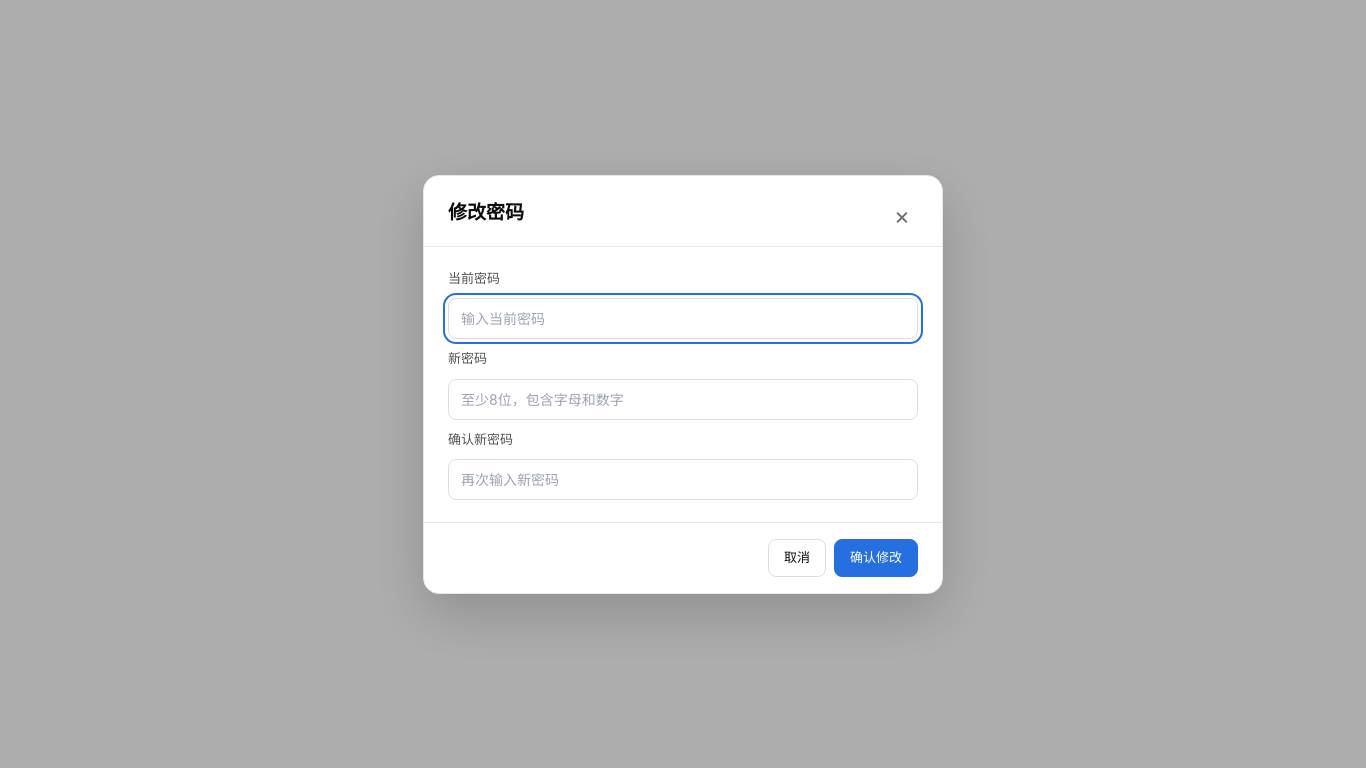
Test: 共享账户表单 › 保留原密码校验：/valid123/valid123
This screenshot has width=1366, height=768.
Type "valid123" into the password field labelled "新密码" at x=683, y=399, box [448, 378, 918, 420]
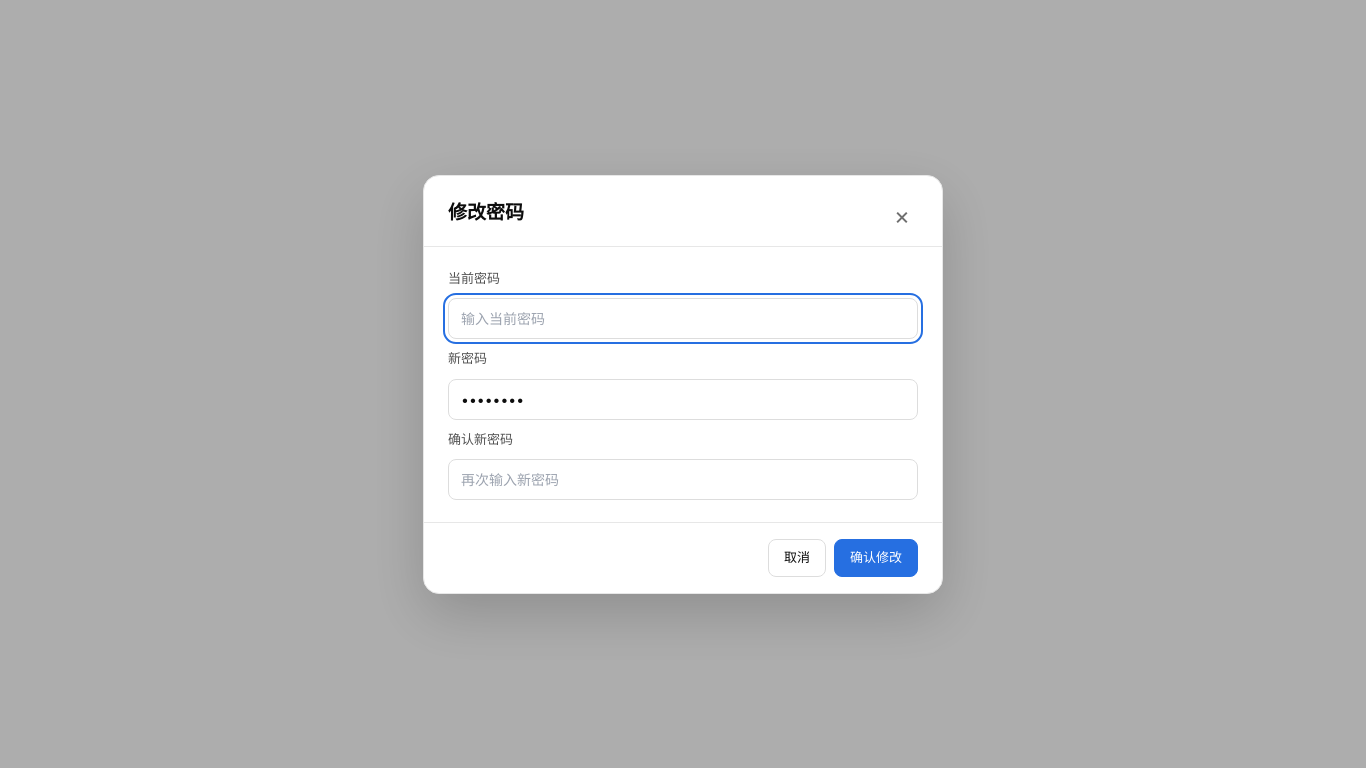
Type "valid123" into the password field labelled "确认新密码" at x=683, y=480, box [448, 459, 918, 500]
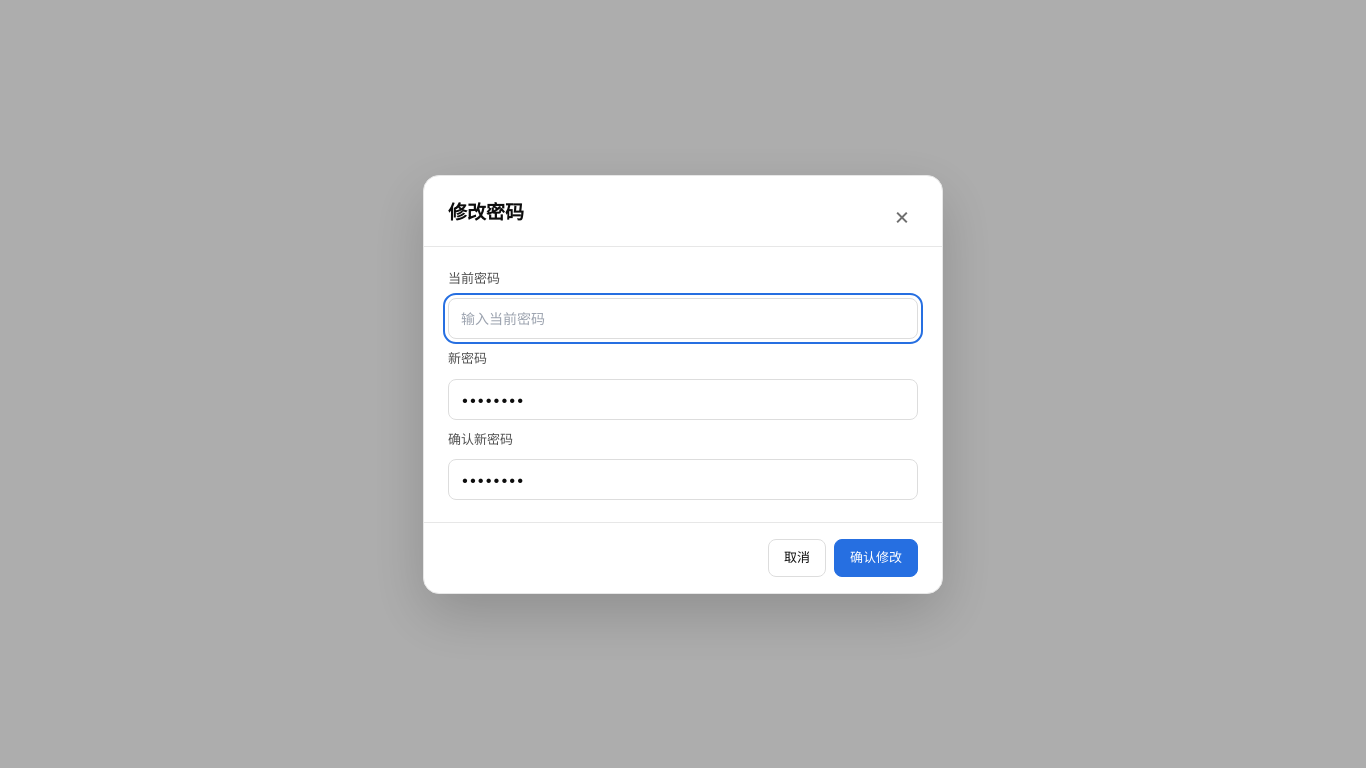
Submit the form, box [424, 246, 942, 592]
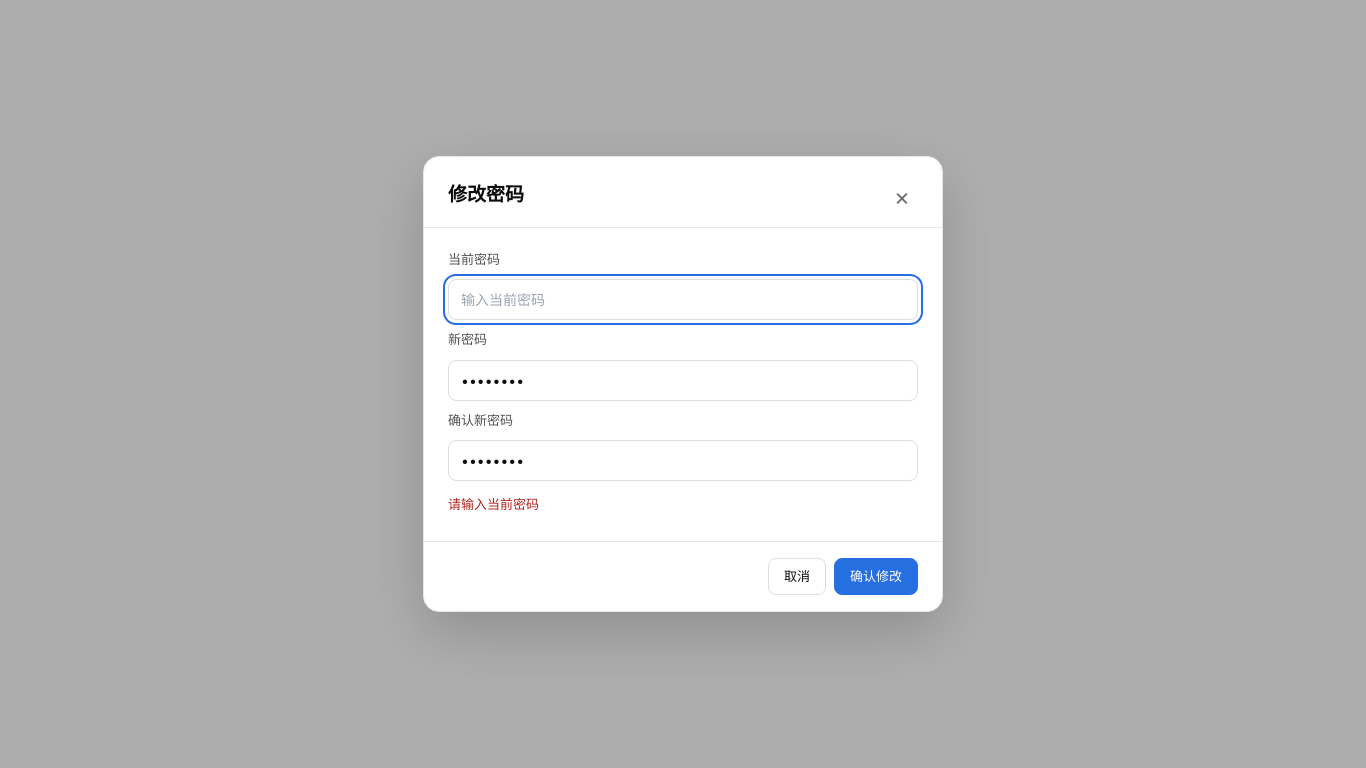
Result: the message reads "请输入当前密码" at [448, 496, 539, 512]
